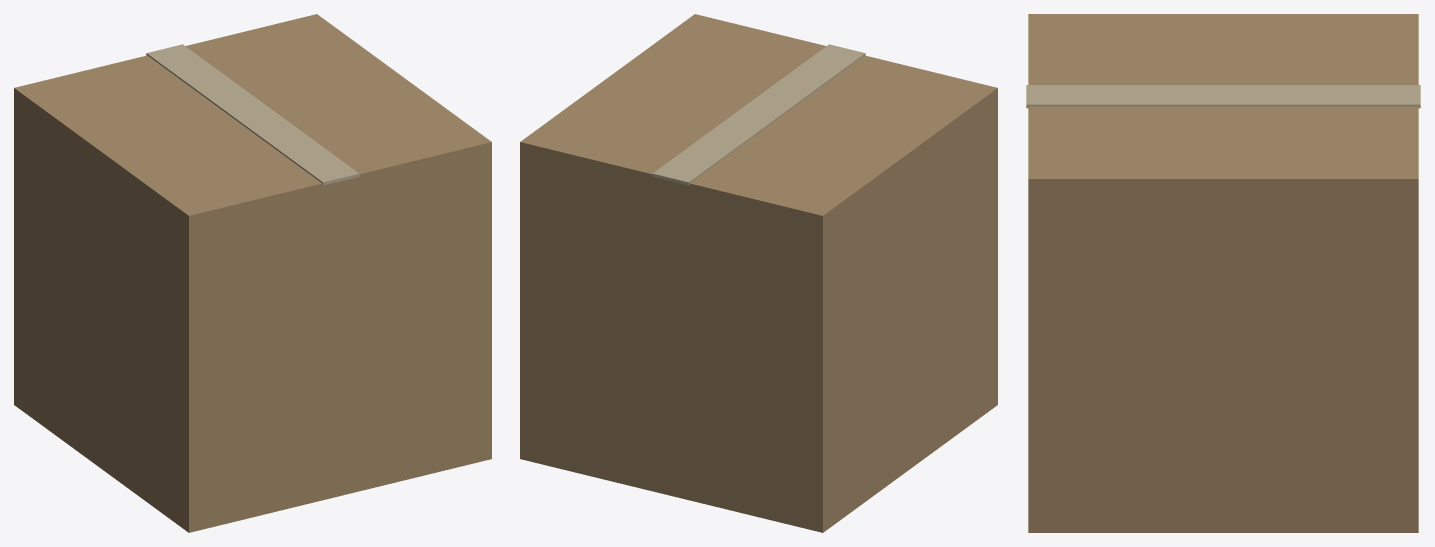
The model's file is 2034-People-held-props-box.glb.
3 renders of one model, left to right at view 1: azimuth 30°, elevation 25°; view 2: azimuth 150°, elevation 25°; view 3: azimuth 270°, elevation 25°, orthographic. The views are drawn at different scales.
Parts seen in each view (by area): view 1: People: held props/box; view 2: People: held props/box; view 3: People: held props/box.
Boxes of the visible parts, x1=… form: People: held props/box: x1=14, y1=14, x2=491, y2=532; People: held props/box: x1=520, y1=14, x2=997, y2=532; People: held props/box: x1=1026, y1=14, x2=1420, y2=532.
Bounding box in the file's own units: 1 × 1 × 1.01.
